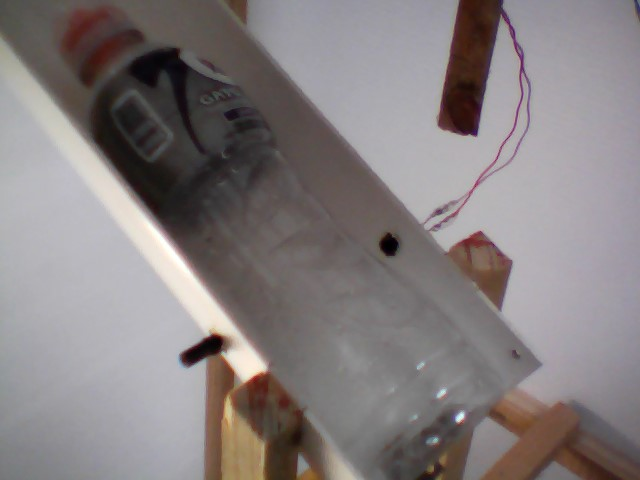plastico: (59, 7, 512, 480)
